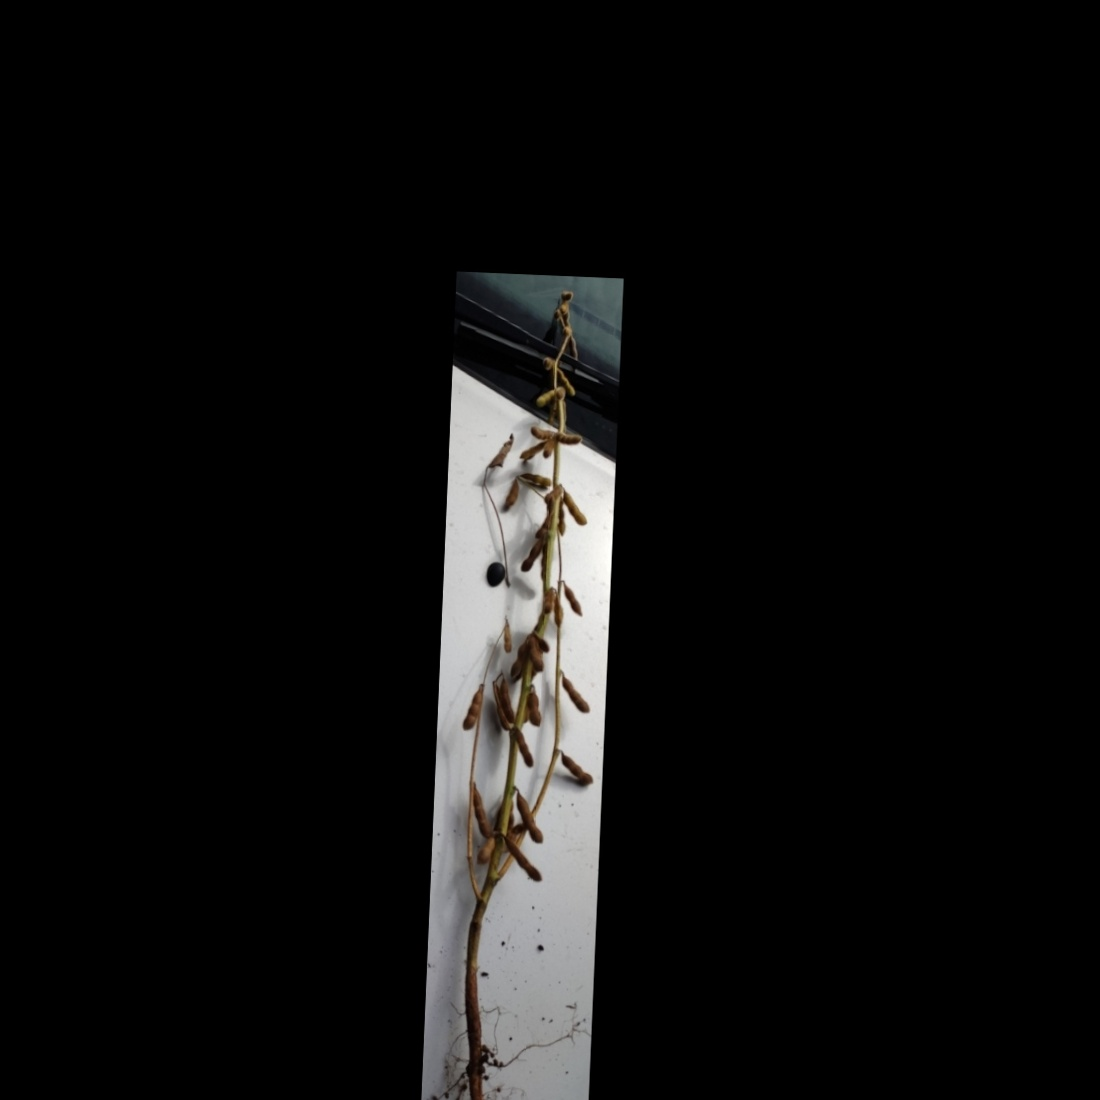pod: (500, 840, 548, 887), (512, 789, 549, 846), (557, 670, 594, 717), (469, 783, 495, 840), (556, 752, 599, 786), (516, 532, 545, 577), (560, 487, 590, 528), (459, 682, 482, 732), (513, 727, 538, 772), (560, 580, 586, 618), (525, 686, 545, 728), (517, 470, 556, 489), (534, 386, 559, 411), (553, 430, 584, 448)
soy: (425, 278, 620, 1100)
